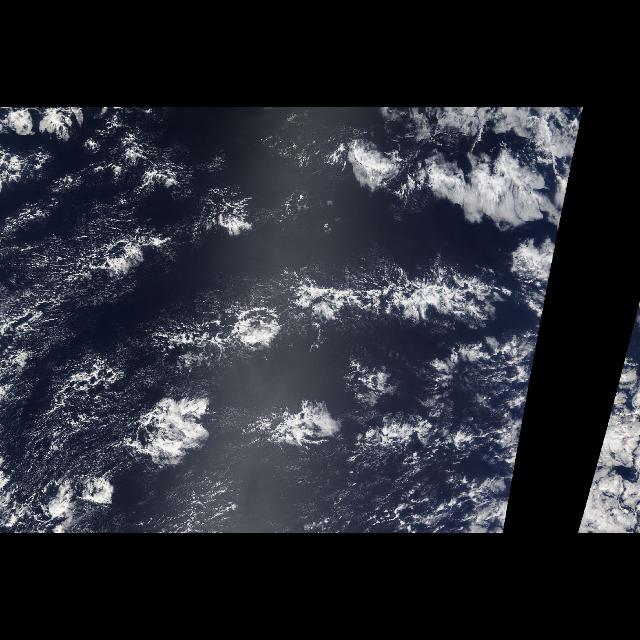Flower: (6, 108, 568, 472)
Gravel: (32, 326, 126, 480)
